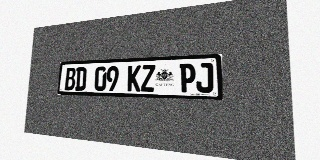0: (94, 66, 107, 91)
9: (106, 66, 119, 91)
B: (65, 67, 76, 90)
D: (75, 67, 87, 91)
J: (196, 63, 213, 93)
K: (127, 65, 141, 92)
P: (179, 63, 196, 93)
Z: (141, 65, 155, 92)
